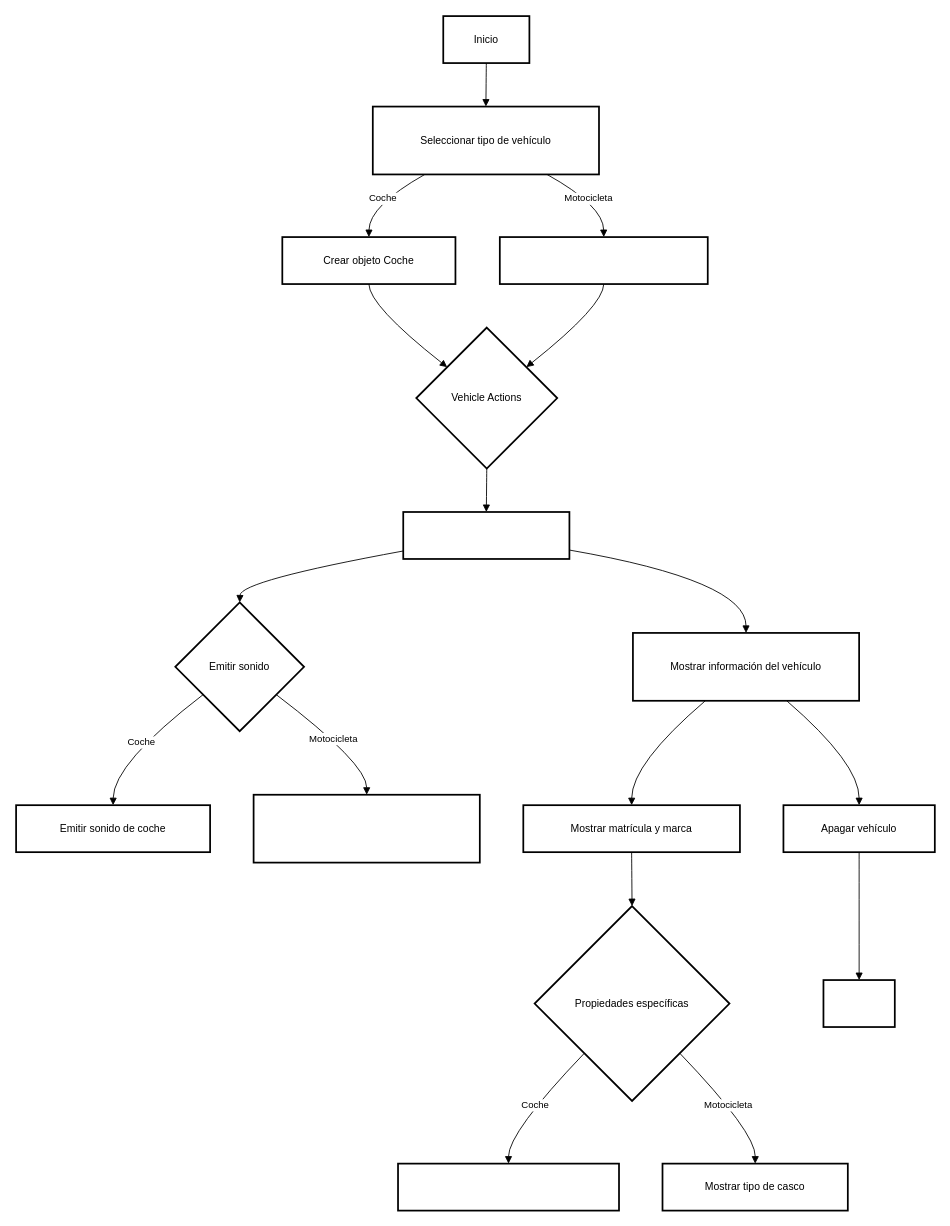
Some shapes in this 950 by 1226 pixel diagram are drawn without their labels. Here are the shapes that lost their labels. From the top down, the box of each, then its label:
(499, 236, 708, 284): Crear objeto Motocicleta
(402, 511, 570, 559): Encender vehículo
(252, 793, 480, 863): Emitir sonido de motocicleta
(822, 979, 895, 1027): Fin
(397, 1162, 619, 1211): Mostrar número de puertas
